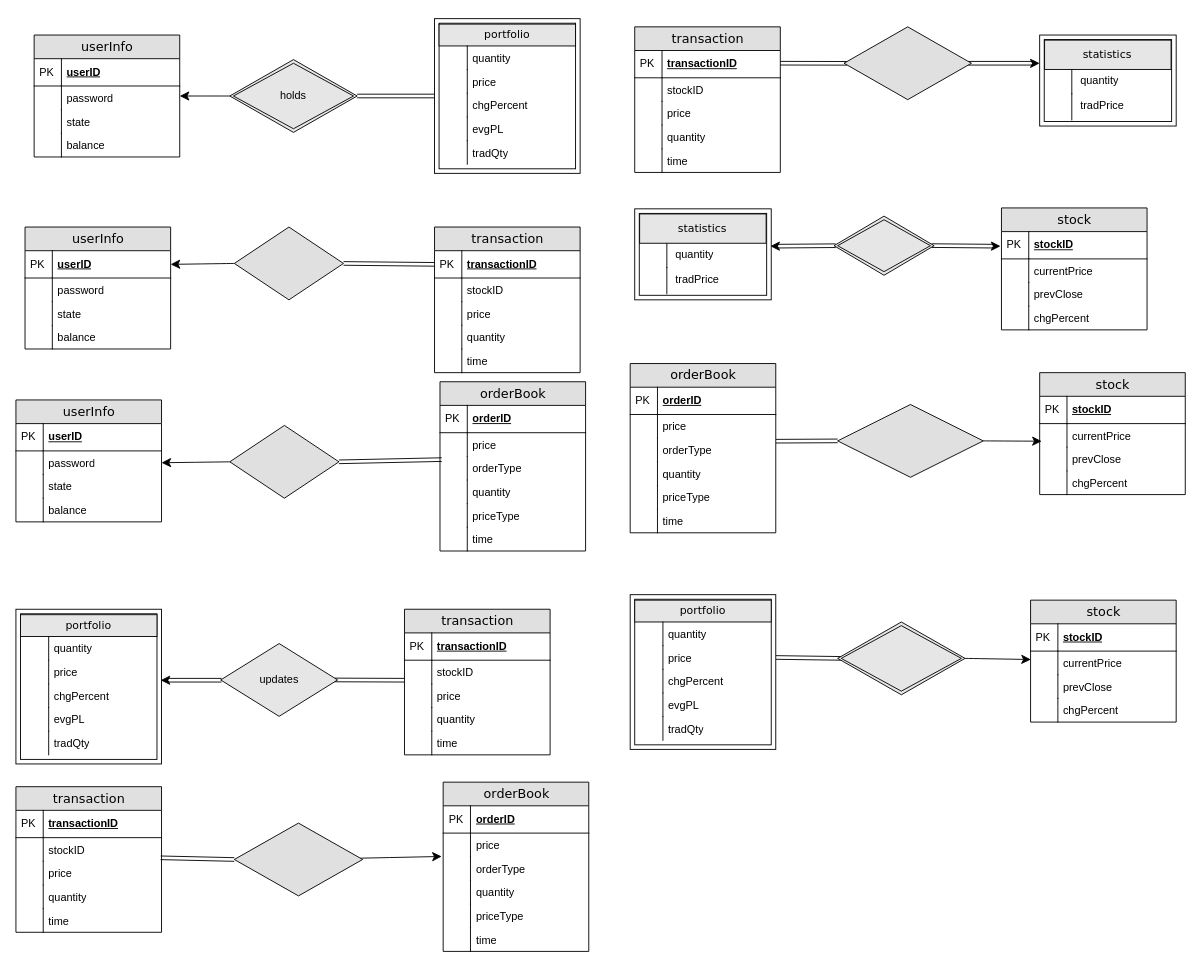
Some shapes in this 1201 by 970 pixel diagram are drawn without their labels. Here are the shapes that lost their labels. From the top down, the centre of each, then its label:
At [907,63]: "calculates".
At [288,263]: "records".
At [883,245]: "derivedFrom".
At [910,440]: "requests".
At [284,461]: "orders".
At [901,658]: "tracks".
At [298,859]: "completes".
